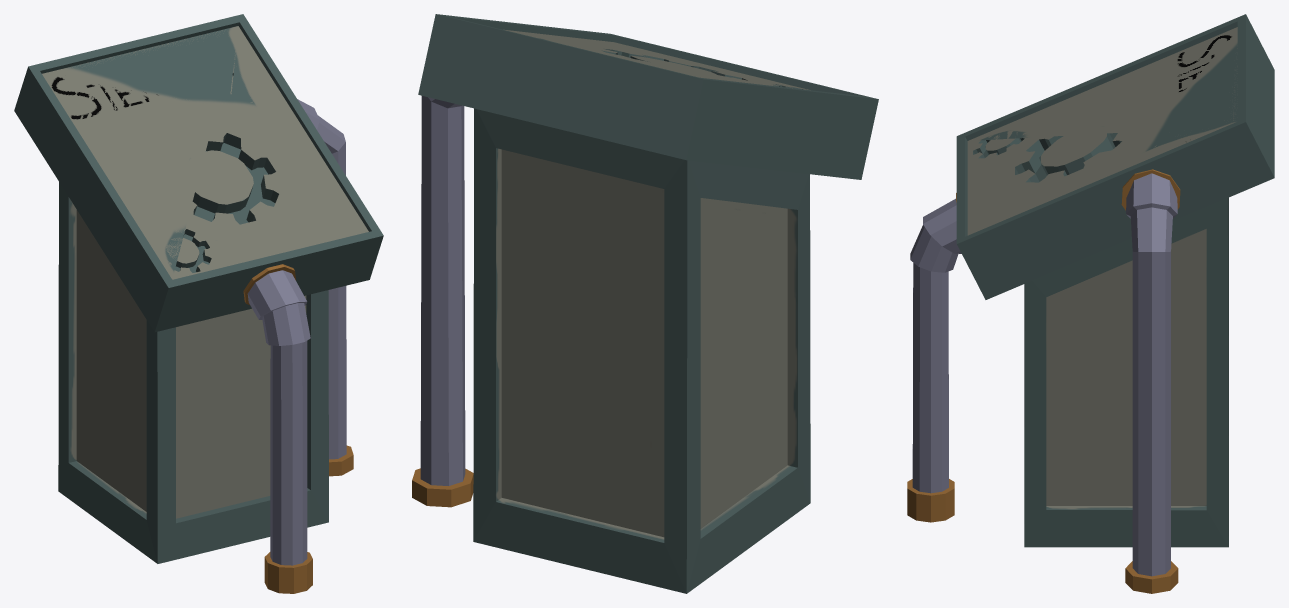
The model's file is podium_painted.fbx.
3 renders of one model, left to right at view 1: azimuth 30°, elevation 25°; view 2: azimuth 150°, elevation 25°; view 3: azimuth 270°, elevation 25°, orthographic. The views are drawn at different scales.
Visible parts, largest first — view 1: podium.001, podium_pipe1.001, podium_pipe2.001; view 2: podium.001, podium_pipe2.001; view 3: podium.001, podium_pipe2.001, podium_pipe1.001, Cylinder.005.
Boxes of the visible parts, bbox=[...] form: podium.001: bbox=[14, 14, 383, 563]; podium_pipe1.001: bbox=[247, 270, 312, 593]; podium_pipe2.001: bbox=[297, 99, 353, 476]; podium.001: bbox=[418, 14, 878, 593]; podium_pipe2.001: bbox=[412, 96, 473, 507]; podium.001: bbox=[956, 14, 1274, 547]; podium_pipe2.001: bbox=[1125, 173, 1178, 593]; podium_pipe1.001: bbox=[907, 198, 961, 522]; Cylinder.005: bbox=[1121, 169, 1180, 210].
Size of the model in its own units: 96.66 by 144 by 108.
